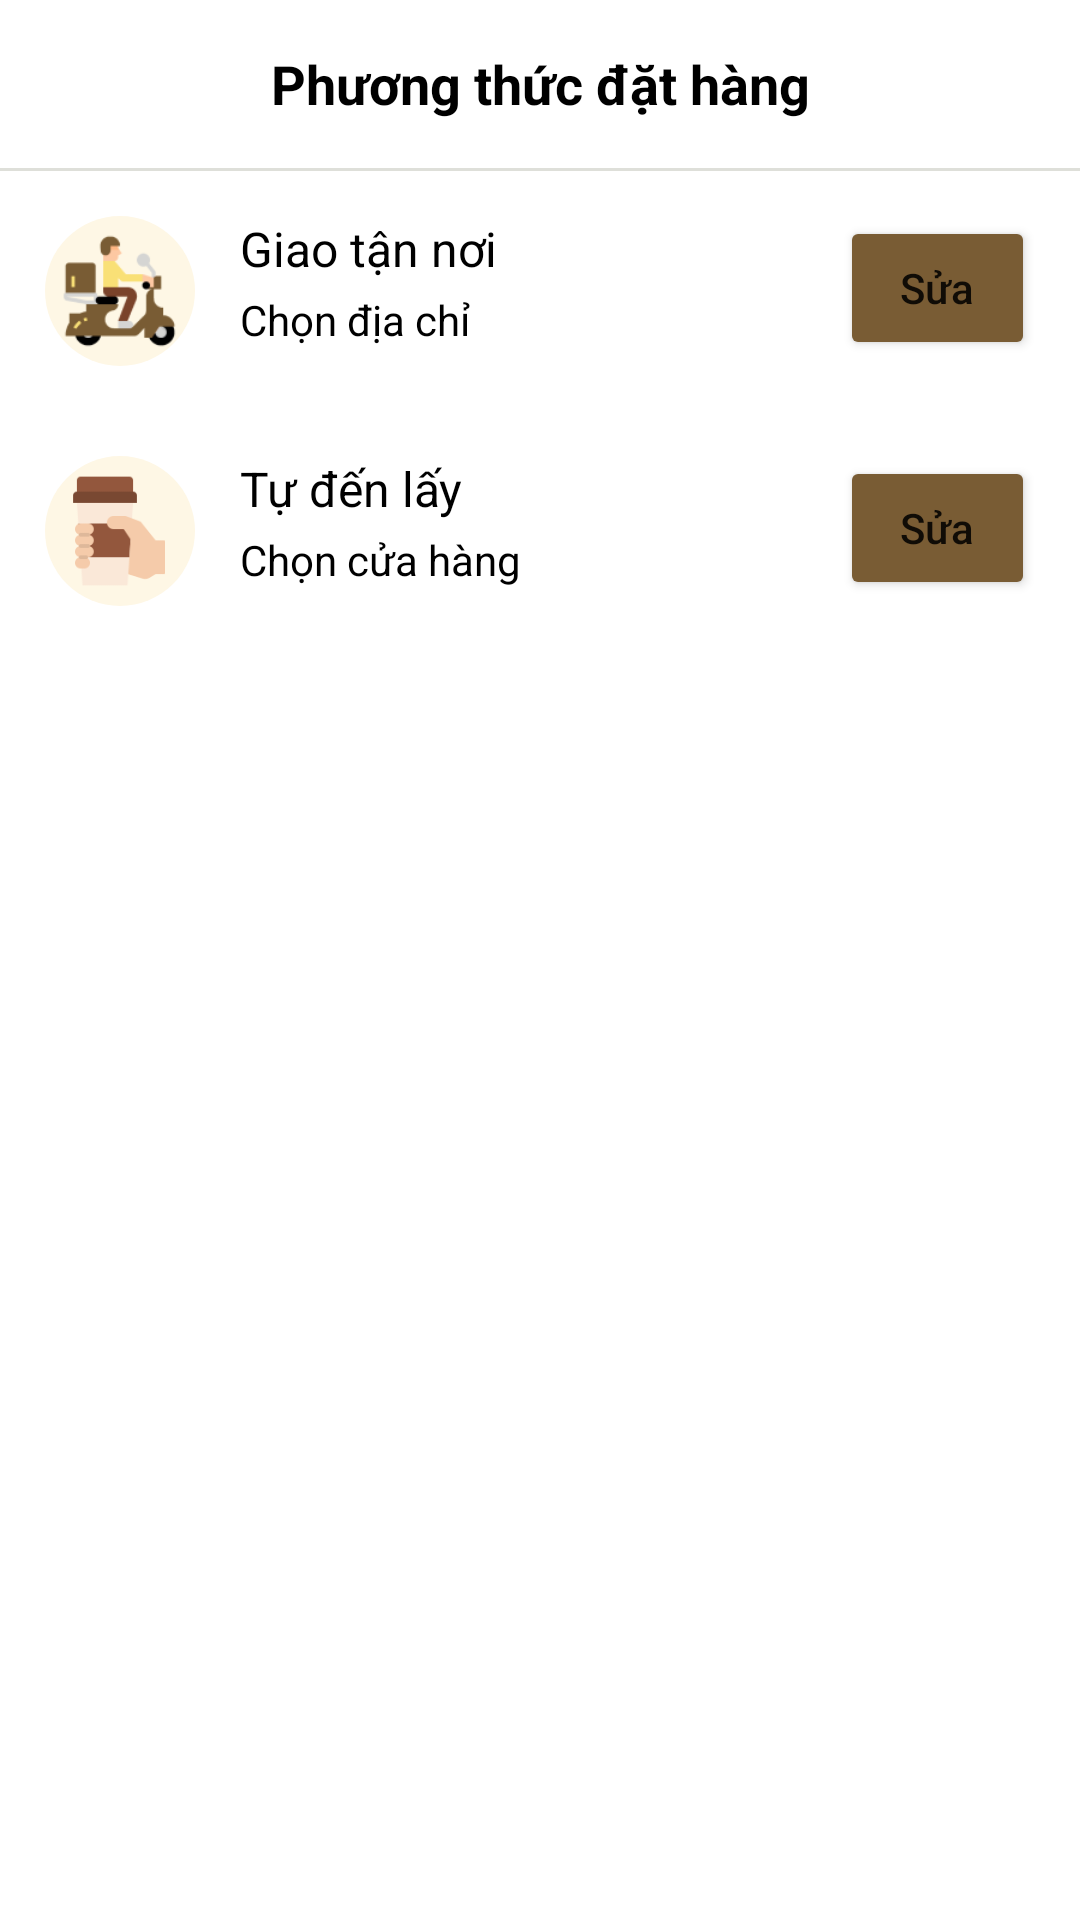

Screen size 1080w x 1920h. Icon name, then its box in pixels as (x1, y1, x2, y2):
delivery: (64, 236, 175, 346)
takeaway: (73, 476, 165, 579)
